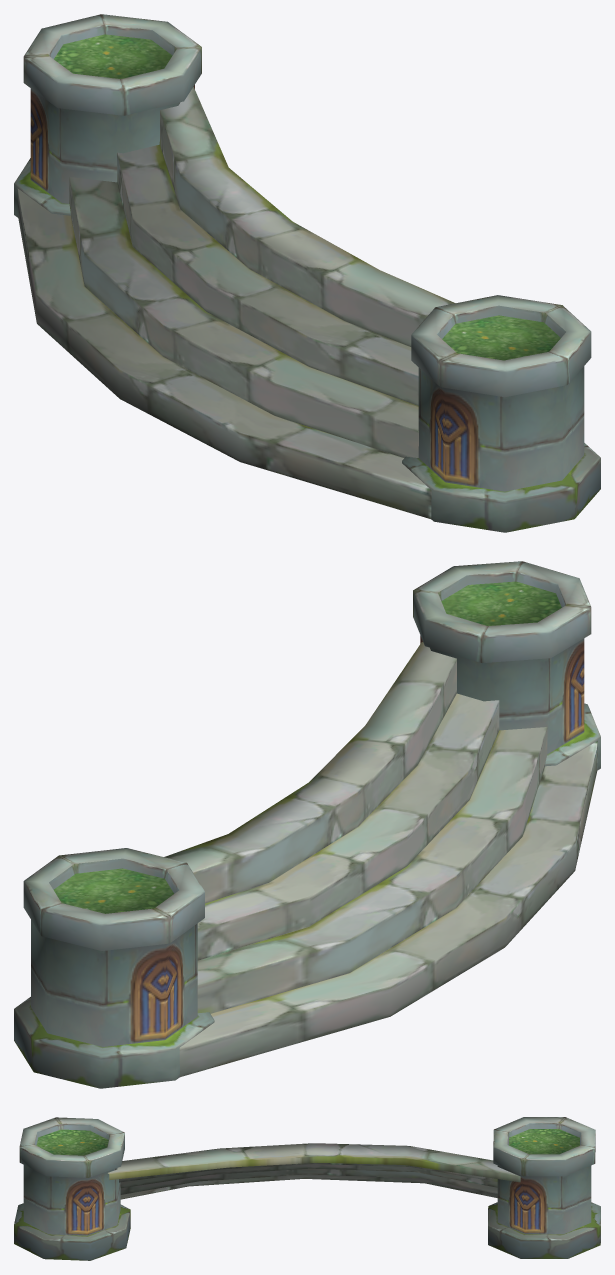
File: Map_06_wall17.FBX
3 renders of one model, top to bottom at view 1: azimuth 30°, elevation 25°; view 2: azimuth 150°, elevation 25°; view 3: azimuth 270°, elevation 25°, orthographic. The views are drawn at different scales.
Visible parts, largest first — view 1: Map_06_wall17; view 2: Map_06_wall17; view 3: Map_06_wall17.
Boxes of the visible parts, box(x1,y1,x2,y2) form: Map_06_wall17: box(14, 14, 600, 532); Map_06_wall17: box(14, 561, 600, 1088); Map_06_wall17: box(14, 1117, 600, 1260).
Bounding box in the file's own units: 379 × 208 × 1145.
